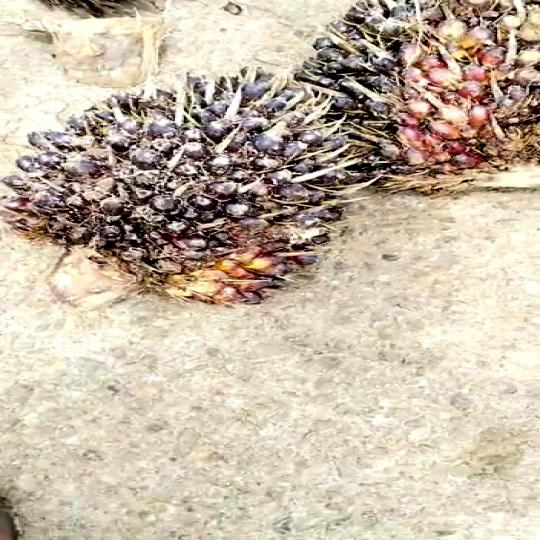mentah: (0, 55, 374, 324), (277, 4, 540, 216)
